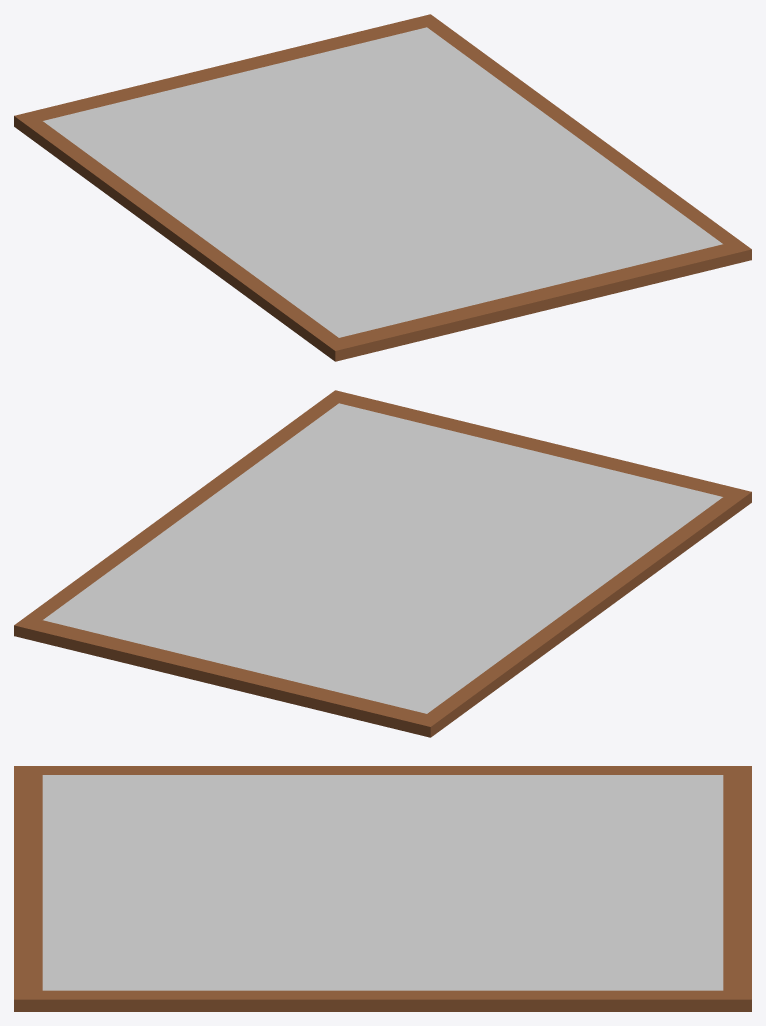
Rendered from matequillo.fbx.
3 views of the same model, one above another, from view 1: azimuth 30°, elevation 25°; view 2: azimuth 150°, elevation 25°; view 3: azimuth 270°, elevation 25° (orthographic). The views are drawn at different scales.
Parts seen in each view (by area): view 1: Plane; view 2: Plane; view 3: Plane.
Part boxes in pixels (bbox=[...]): Plane: bbox=[14, 14, 751, 361]; Plane: bbox=[14, 390, 751, 737]; Plane: bbox=[14, 766, 751, 1011].
Size of the model in its own units: 880 by 21.69 by 1175.
